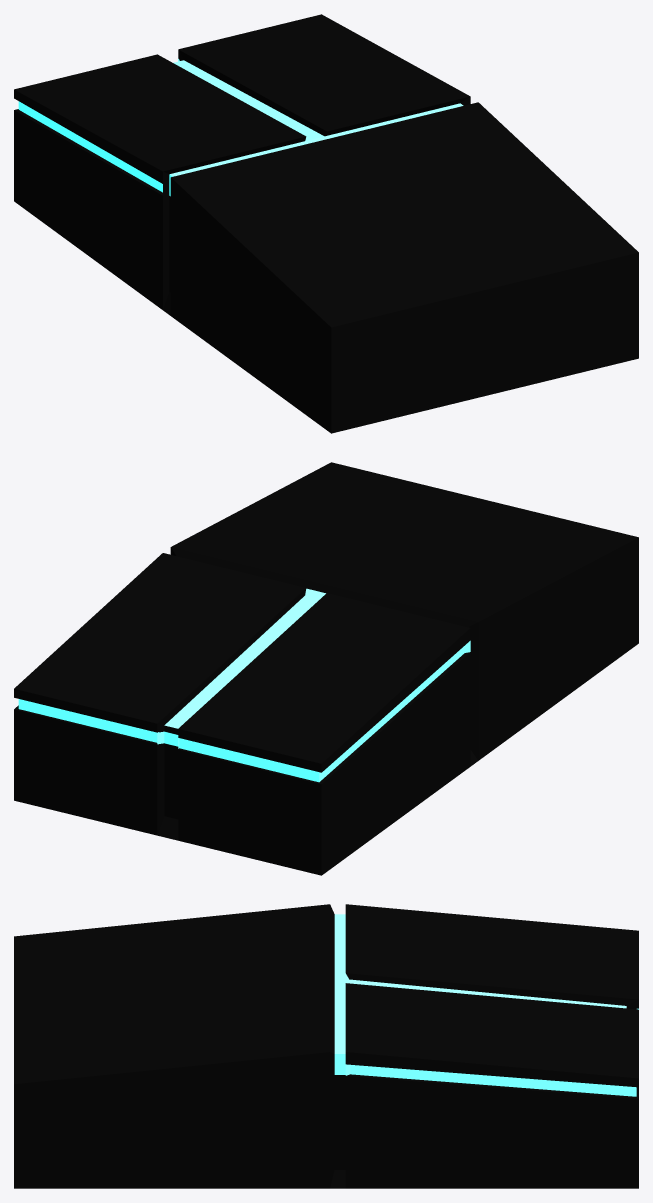
File: Mouse.fbx
3 renders of one model, top to bottom at view 1: azimuth 30°, elevation 25°; view 2: azimuth 150°, elevation 25°; view 3: azimuth 270°, elevation 25°, orthographic.
Visible parts, largest first — view 1: mouse; view 2: mouse; view 3: mouse.
Part boxes in pixels (box(x1,y1,x2,y2)): mouse: box(14, 14, 638, 433); mouse: box(14, 462, 638, 875); mouse: box(14, 904, 638, 1188).
Size of the model in its own units: 22.87 by 9.86 by 40.86.
